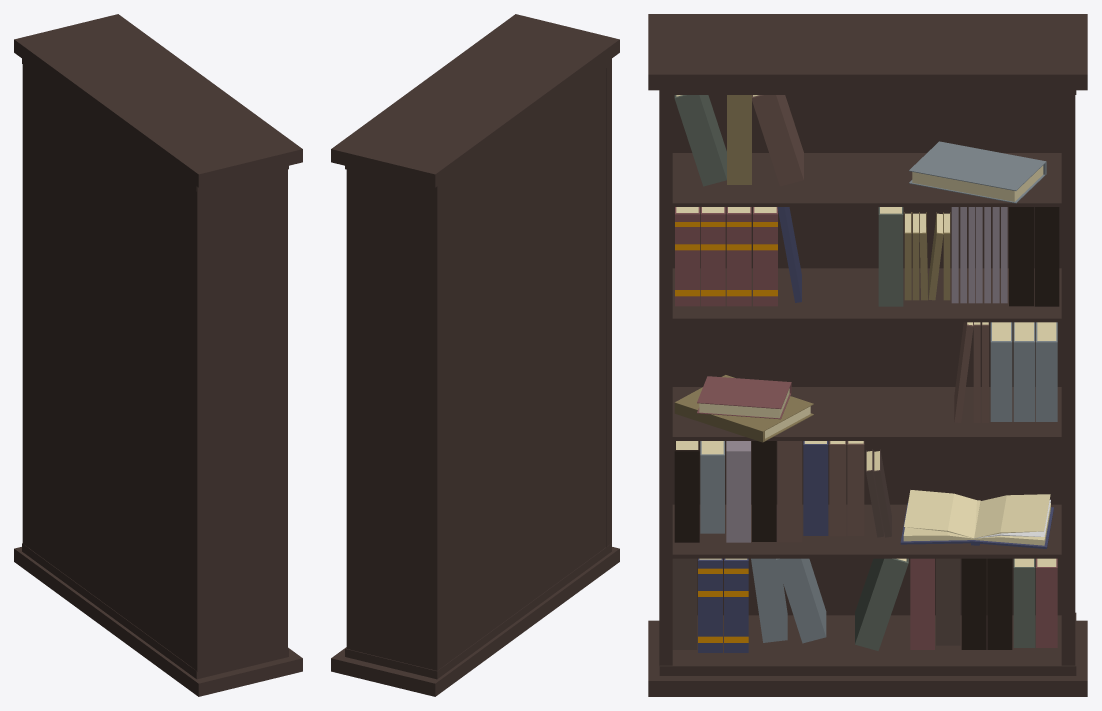
Rendered from SmallBookshelfArrangement1.fbx.
The picture shows the model from 3 angles, left to right: view 1: azimuth 30°, elevation 25°; view 2: azimuth 150°, elevation 25°; view 3: azimuth 270°, elevation 25°; orthographic projection. The views are drawn at different scales.
Parts seen in each view (by area): view 1: Cube, Cube.002, Cube.014, Cube.065, Cube.003, Cube.004, Cube.008; view 2: Cube, Cube.003, Cube.014, Cube.065, Cube.002, Cube.004, Cube.008; view 3: Cube, Cube.014, Cube.004, Cube.001, Cube.006, Cube.007, Cube.065, Cube.005, Cube.003, Cube.002, Cube.064, Cube.038 (+56 smaller).
Part boxes in pixels (x1,y1,x2,y2): Cube: [28, 68, 191, 666]; Cube.002: [191, 166, 287, 671]; Cube.014: [14, 14, 302, 187]; Cube.065: [14, 547, 302, 696]; Cube.003: [22, 64, 28, 547]; Cube.004: [22, 543, 288, 679]; Cube.008: [22, 59, 288, 191]; Cube: [443, 68, 605, 666]; Cube.003: [346, 169, 442, 670]; Cube.014: [331, 14, 619, 187]; Cube.065: [331, 547, 619, 696]; Cube.002: [606, 64, 611, 547]; Cube.004: [345, 543, 611, 679]; Cube.008: [345, 59, 611, 191]; Cube: [672, 95, 1061, 615]; Cube.014: [648, 14, 1087, 90]; Cube.004: [659, 612, 1076, 675]; Cube.001: [672, 153, 1061, 206]; Cube.006: [672, 387, 1061, 440]; Cube.007: [672, 268, 1061, 322]; Cube.065: [648, 620, 1087, 696]; Cube.005: [672, 504, 1061, 558]; Cube.003: [1061, 95, 1075, 665]; Cube.002: [659, 90, 672, 665]; Cube.064: [909, 141, 1046, 203]; Cube.038: [697, 376, 791, 419].
Bounding box in the file's own units: 104 × 491 × 314.
